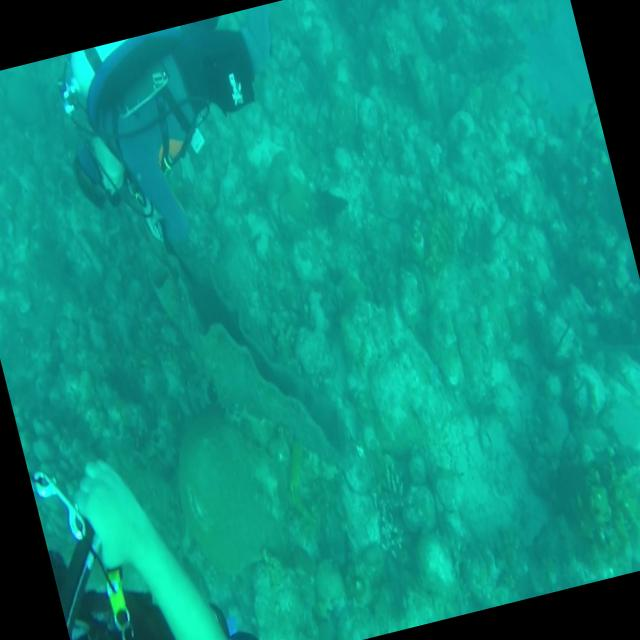human: (45, 0, 337, 279), (22, 405, 267, 640)
